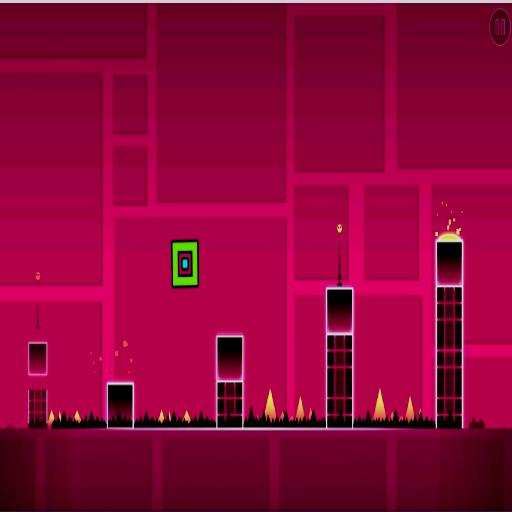block: (434, 241, 463, 425), (322, 284, 356, 430), (212, 330, 246, 438), (104, 380, 138, 434), (26, 384, 51, 432), (27, 336, 52, 378)
player: (172, 240, 198, 285)
spike: (374, 388, 387, 420), (264, 389, 276, 420), (405, 396, 414, 421), (295, 396, 304, 420), (74, 410, 81, 422), (48, 411, 54, 425), (158, 411, 164, 423), (184, 411, 190, 421)
